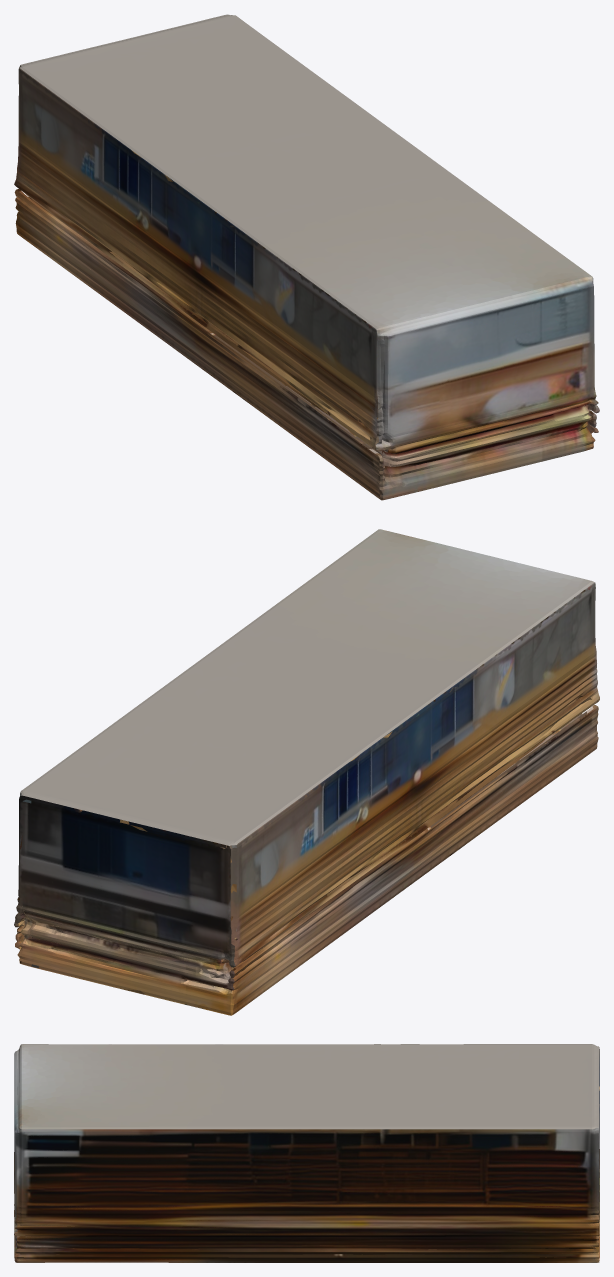
The picture shows the model from 3 angles, top to bottom: view 1: azimuth 30°, elevation 25°; view 2: azimuth 150°, elevation 25°; view 3: azimuth 270°, elevation 25°; orthographic projection. The views are drawn at different scales.
Visible parts, largest first — view 1: textured_mesh.obj; view 2: textured_mesh.obj; view 3: textured_mesh.obj.
Part boxes in pixels (x1,y1,x2,y2): textured_mesh.obj: (14, 14, 599, 500); textured_mesh.obj: (14, 529, 599, 1015); textured_mesh.obj: (14, 1044, 599, 1262).
Bounding box in the file's own units: 0.6992 × 0.5113 × 1.99.
Materials: 1 (1 with a texture image).
